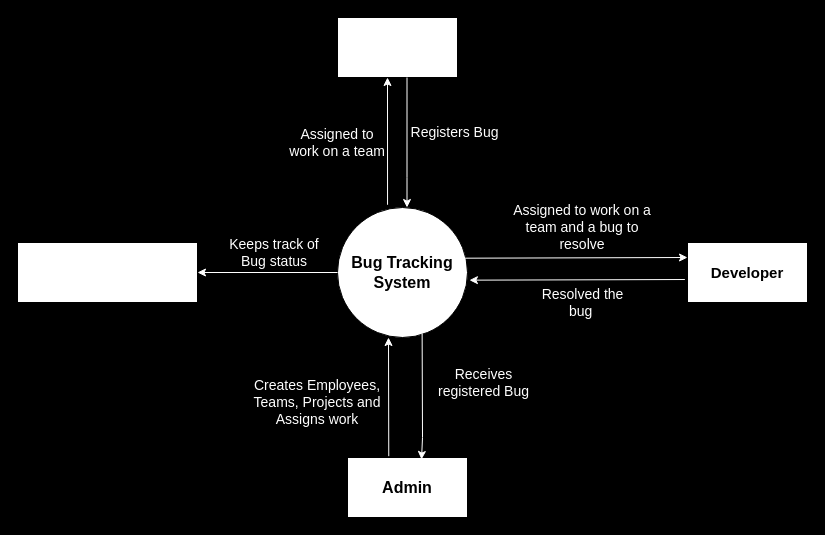
This 825x535 diagram has some shape labels left out. The centre of each missing label's shape, as x and y in pixels:
Tester: (397,47)
Tracking Table: (107,272)
